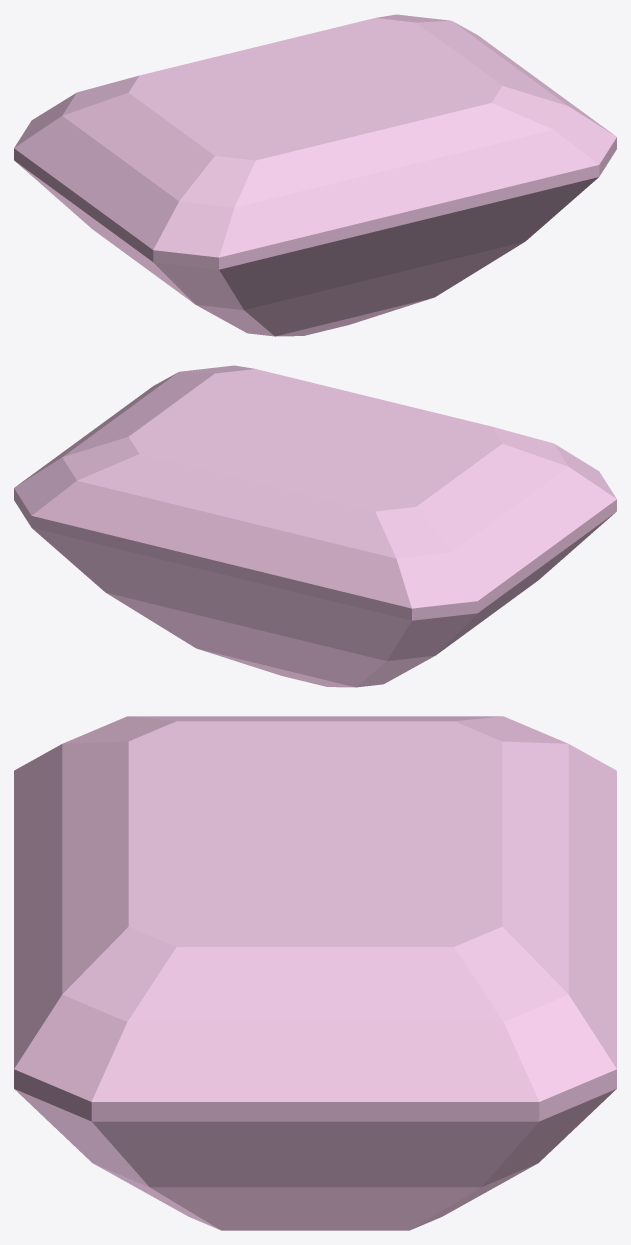
The model's file is kunzite.glb.
3 views of the same model, one above another, from view 1: azimuth 30°, elevation 25°; view 2: azimuth 150°, elevation 25°; view 3: azimuth 270°, elevation 25° (orthographic). The views are drawn at different scales.
Visible parts, largest first — view 1: kunzite; view 2: kunzite; view 3: kunzite.
Boxes of the visible parts, x1,y1,x2,y2 form: kunzite: (14, 14, 616, 336); kunzite: (14, 365, 616, 687); kunzite: (14, 716, 616, 1230).
Size of the model in its own units: 0.25 by 0.12 by 0.175.
